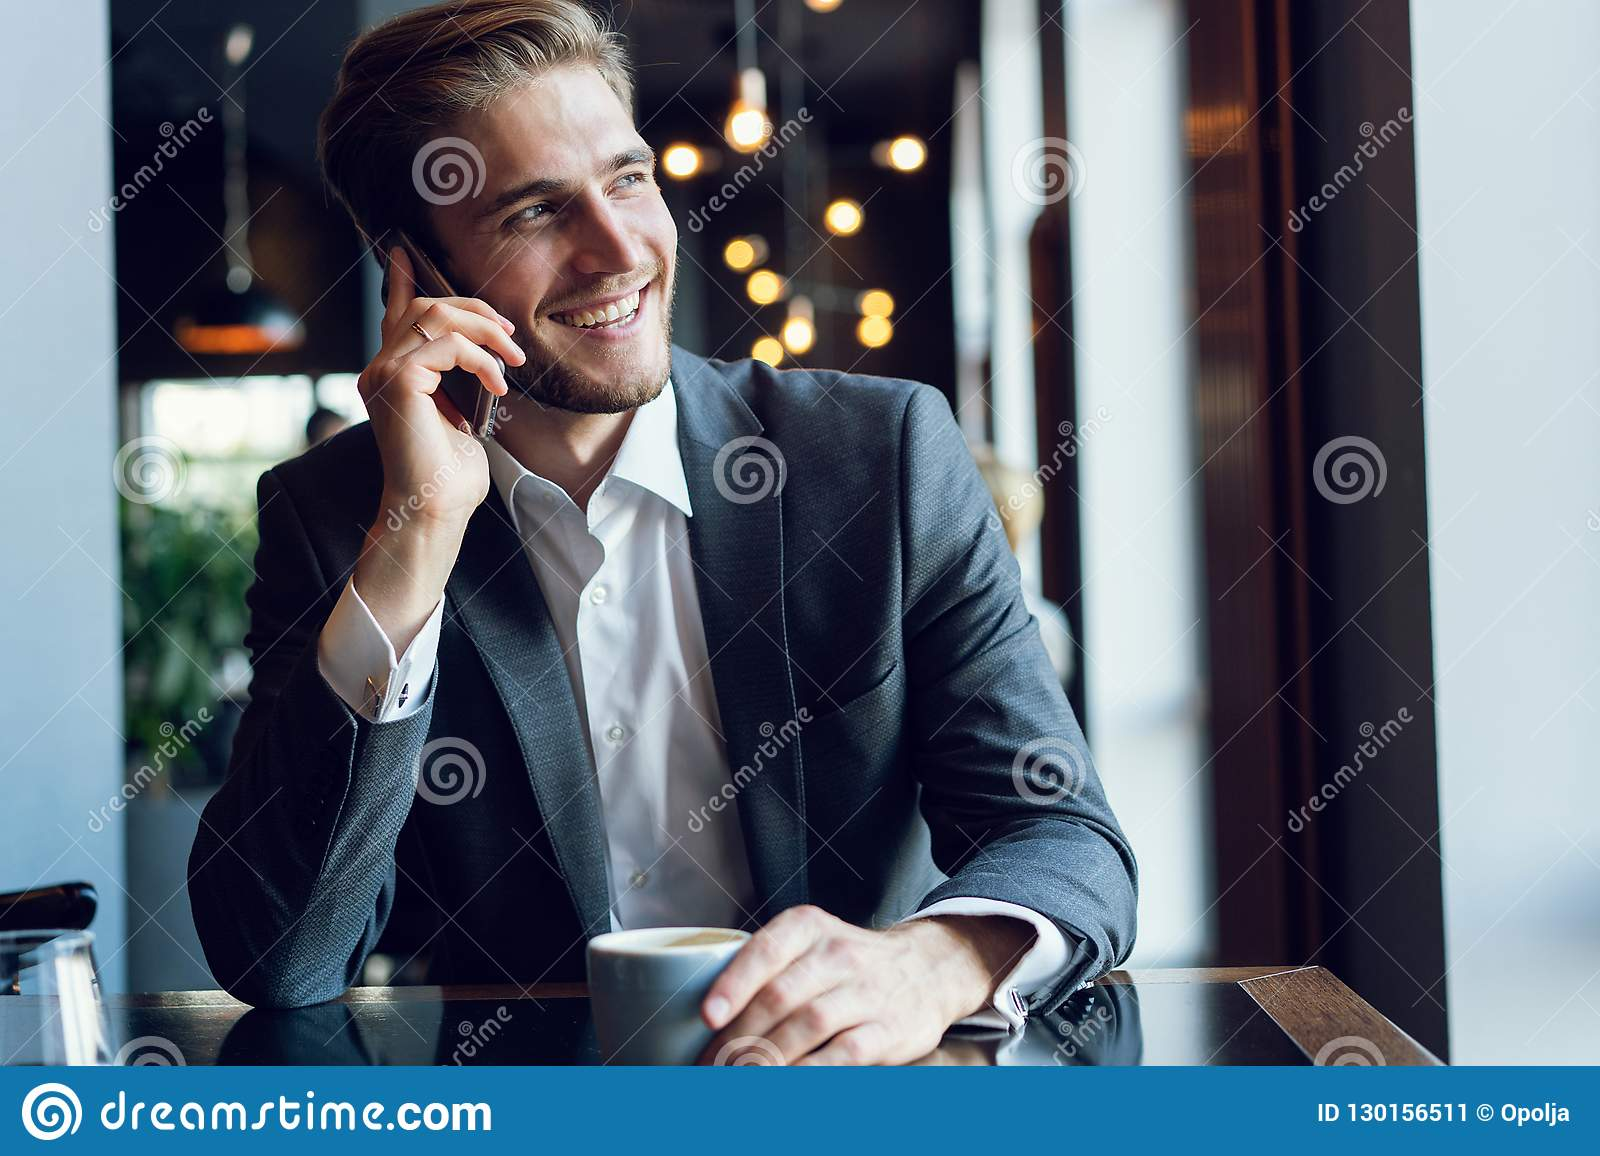phone: (378, 224, 511, 446)
talk: (352, 125, 678, 534)
